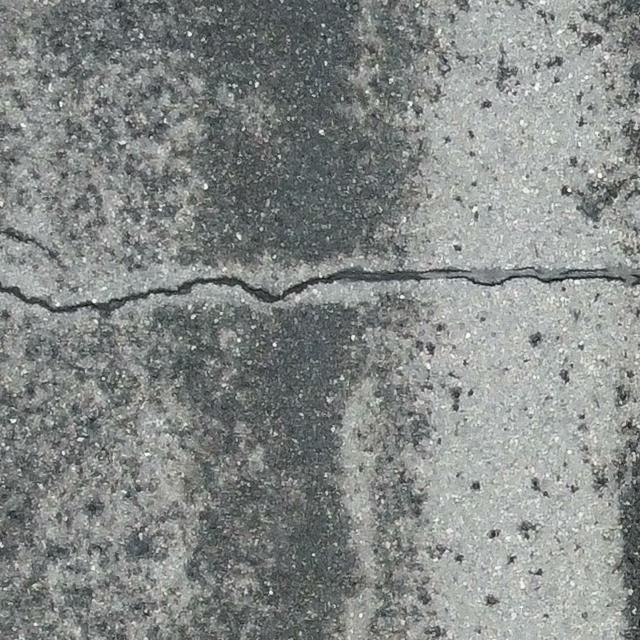TransverseCrack: (1, 265, 640, 316)
